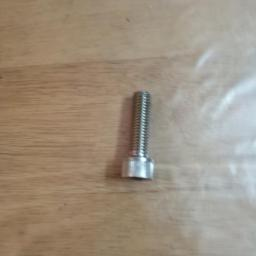screwtype1silver: (114, 90, 157, 183)
